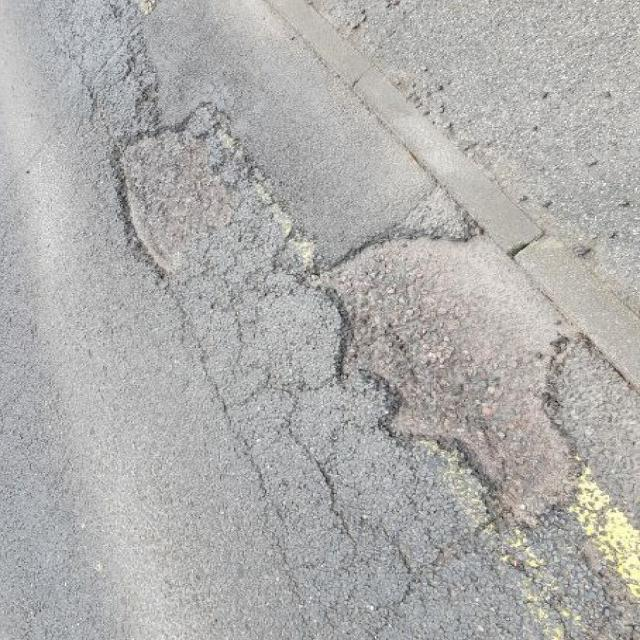Pothole: (289, 216, 591, 538), (101, 99, 252, 285)
